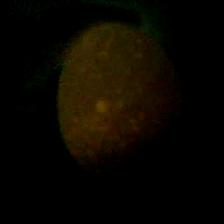fertile: (55, 18, 191, 200)
